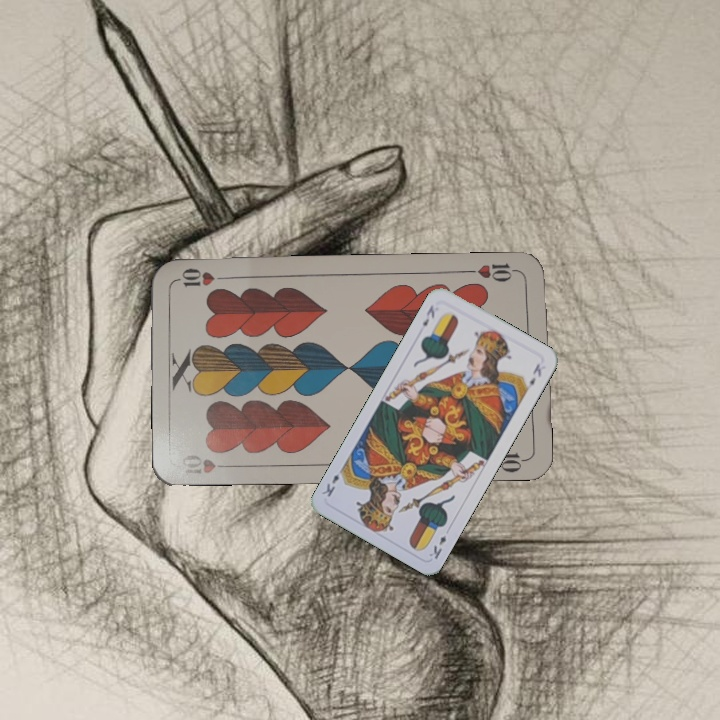EK: (425, 531, 449, 562), (418, 301, 437, 329)
H10: (177, 450, 236, 477), (464, 259, 523, 285)
